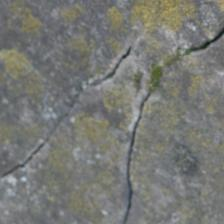Crack: (0, 83, 171, 197), (88, 28, 219, 60), (0, 118, 114, 152)
